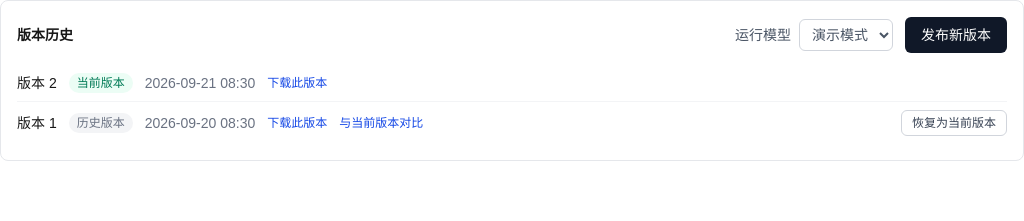
it: VersionPanel › 历史版本可恢复为新的当前版本
The image size is (1024, 221).
What coordinates should you click on to do the following:
click the button "恢复为当前版本"
I would click on:
 (954, 123)
Its box is [901,110,1007,136].
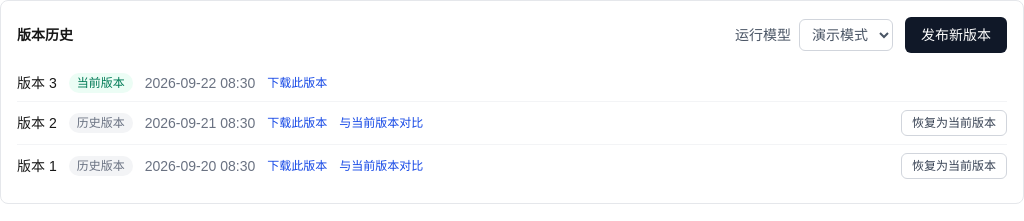
Expected: the text "当前版本" is shown, [69,73,133,93]
Expected: the text "版本 3" is shown, [17,73,57,93]
Expected: the text "历史版本" is shown 2 times, [69,113,133,133]; [69,156,133,176]
